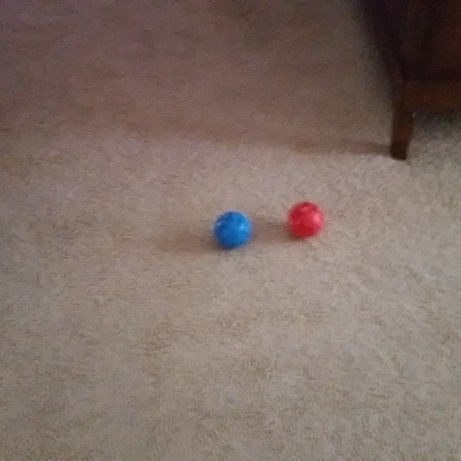ball: (212, 209, 255, 250), (285, 198, 324, 239)
